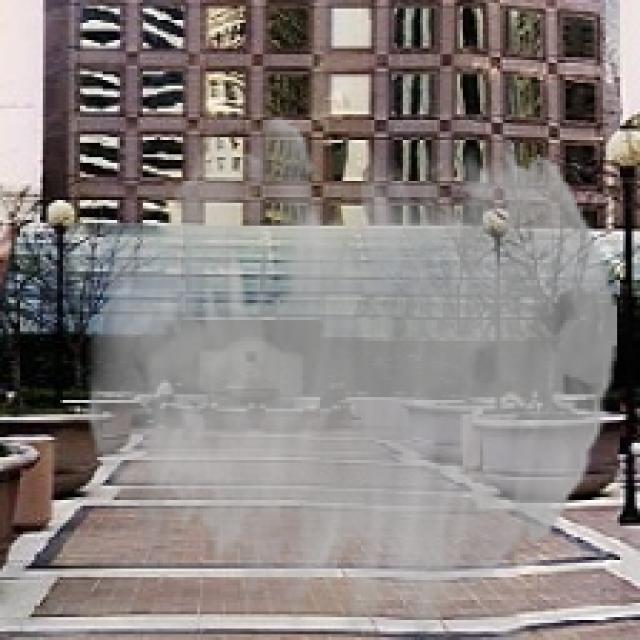smoke: (86, 117, 617, 637)
